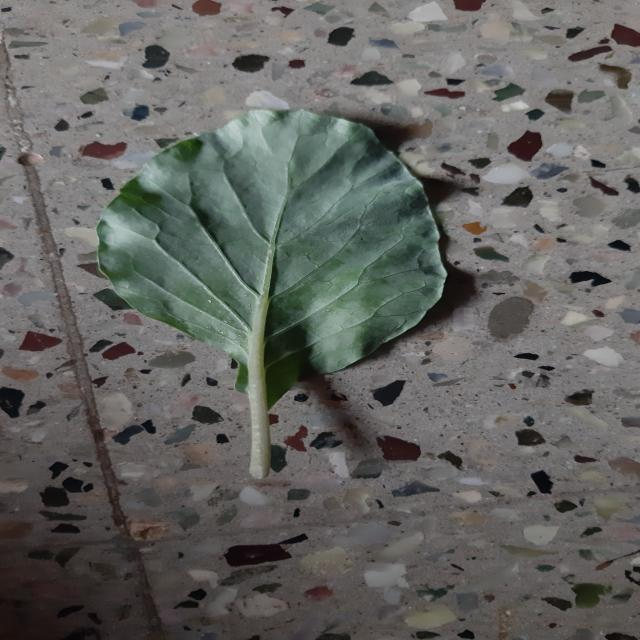Kohlrabi: (98, 110, 444, 478)
